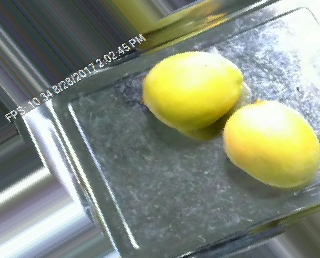Mango: (215, 99, 320, 191), (139, 49, 244, 132)
